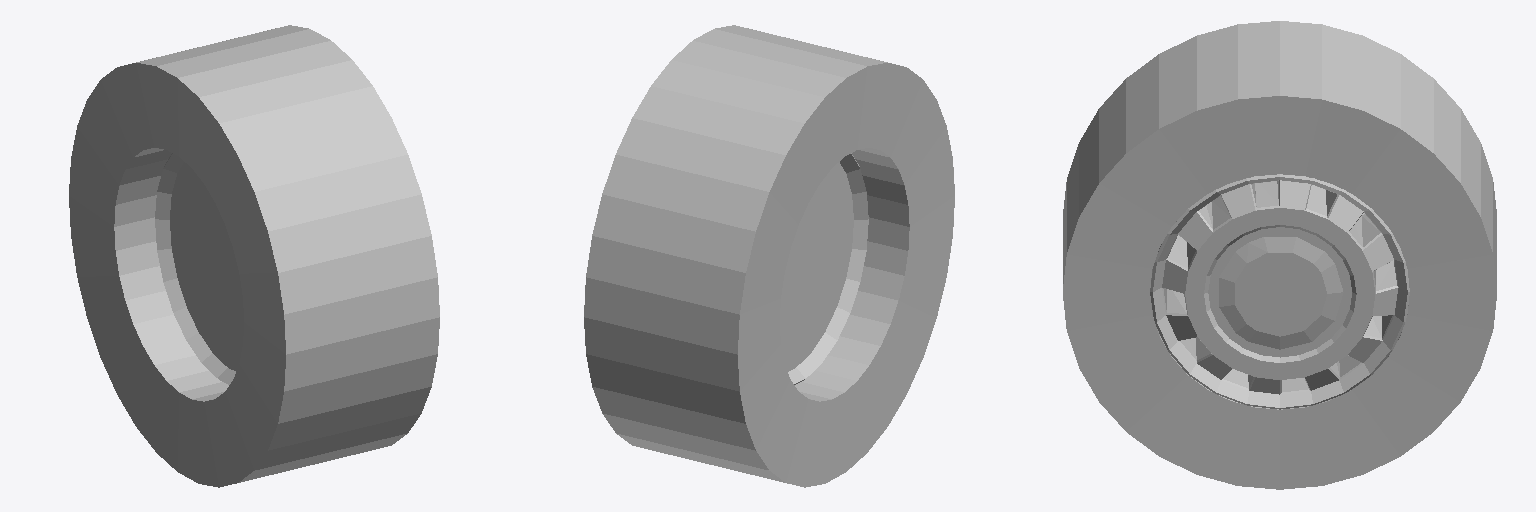
The model's file is LKW_LeftwheelF.obj.
3 renders of one model, left to right at view 1: azimuth 30°, elevation 25°; view 2: azimuth 150°, elevation 25°; view 3: azimuth 270°, elevation 25°, orthographic.
Bounding box in the file's own units: 0.5627 × 1.35 × 1.35.